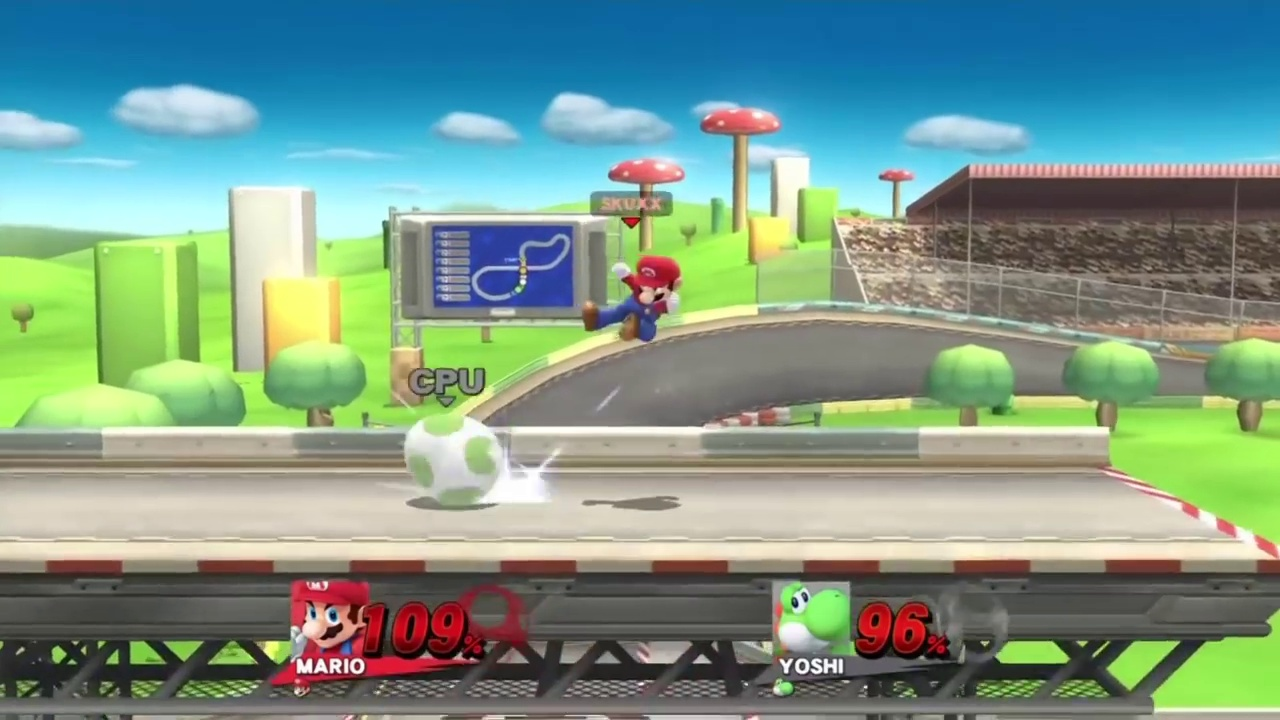Mario: (588, 258, 687, 339)
